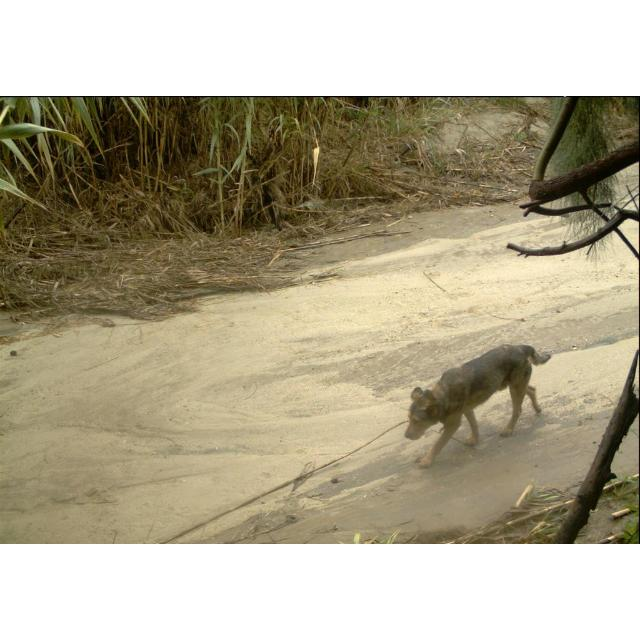animals: (405, 340, 555, 468)
